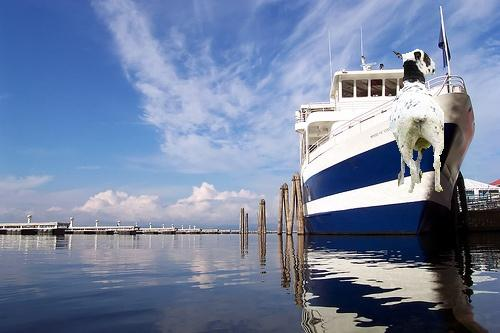tampered: (390, 50, 444, 193)
